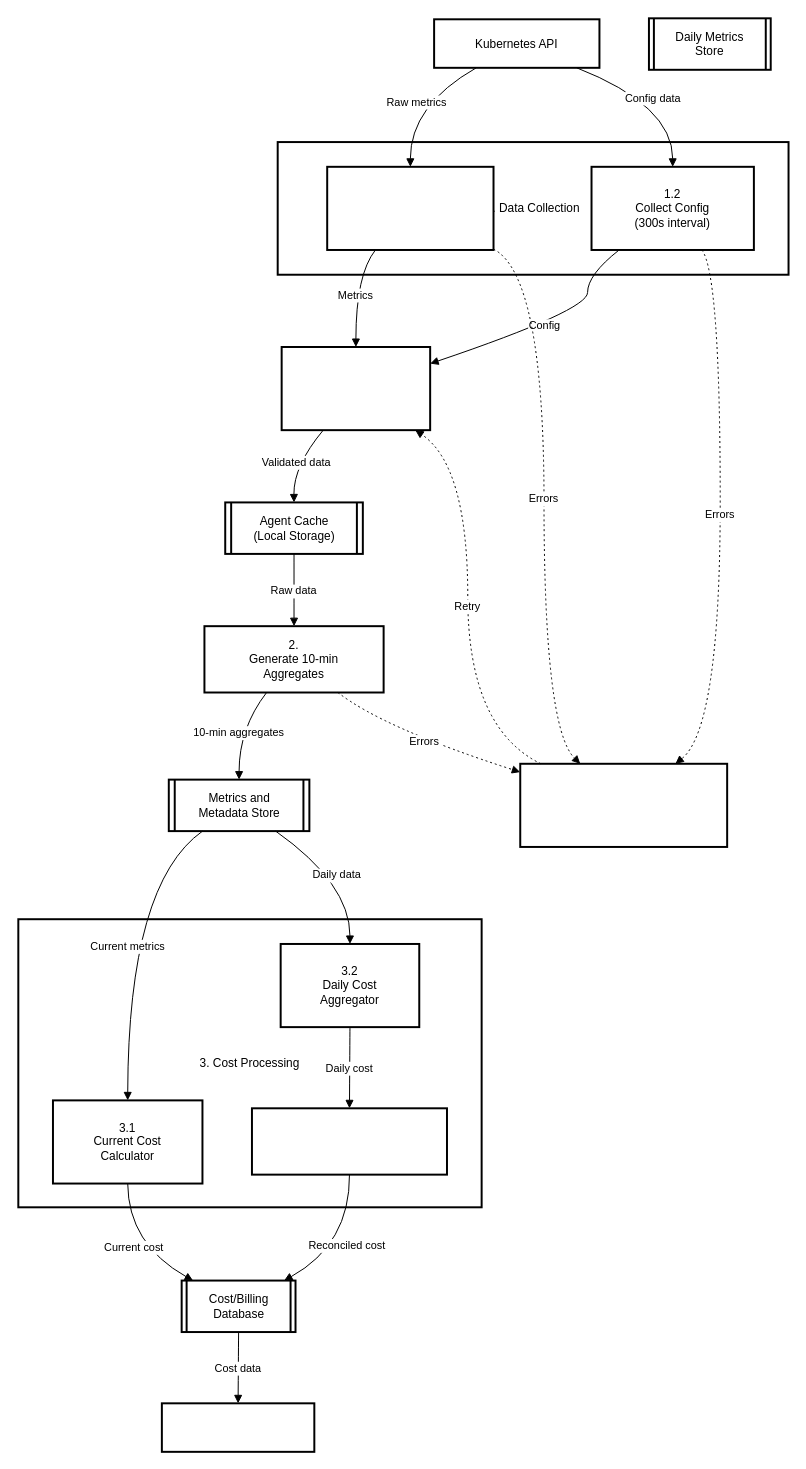
Image size: 806x1469. Some labels were removed from this diagram. The shapes that lost their labels are listed below. From the top down, each one's centre as x and y in pixels, then its label:
the point at 410,207: 1.1 Collect Metrics (30s interval)
the point at 355,388: V. Data Quality Validator
the point at 623,804: E. Error Handler & Recovery
the point at 348,1141: 3.3 Cost Reconciliation
the point at 237,1427: UI Dashboard
